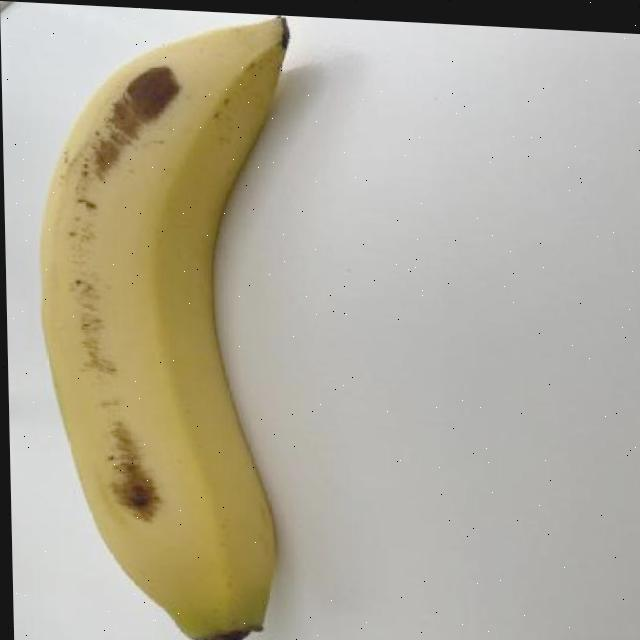banana: (32, 3, 308, 640)
